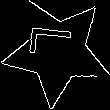L_E: (30, 33, 83, 69)
